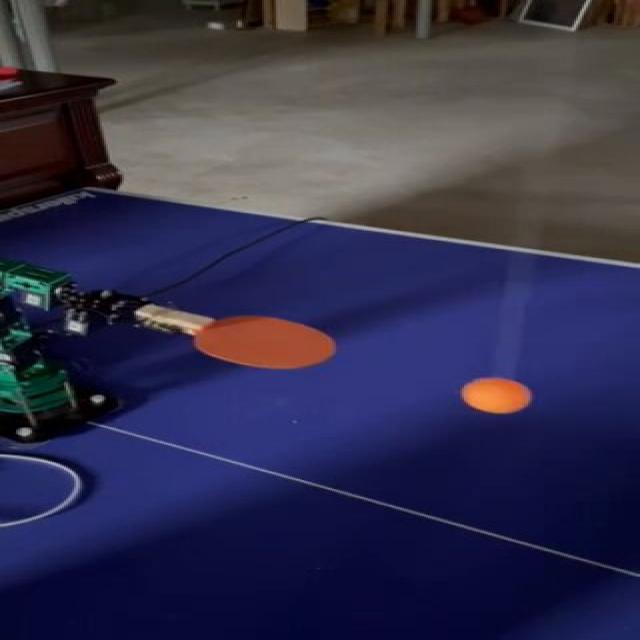ping-pong-ball: (458, 376, 528, 409)
